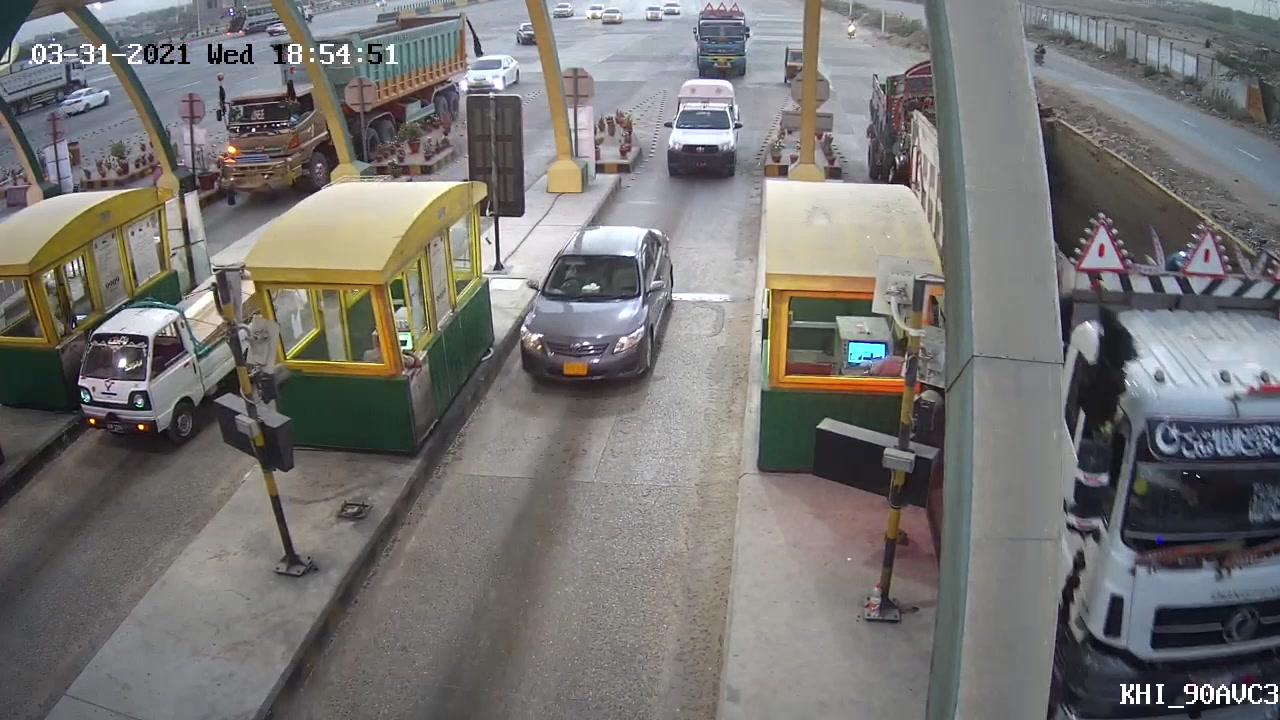F1: (513, 220, 678, 383), (659, 70, 747, 181)
